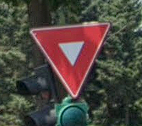cedeaza: (28, 25, 121, 95)
